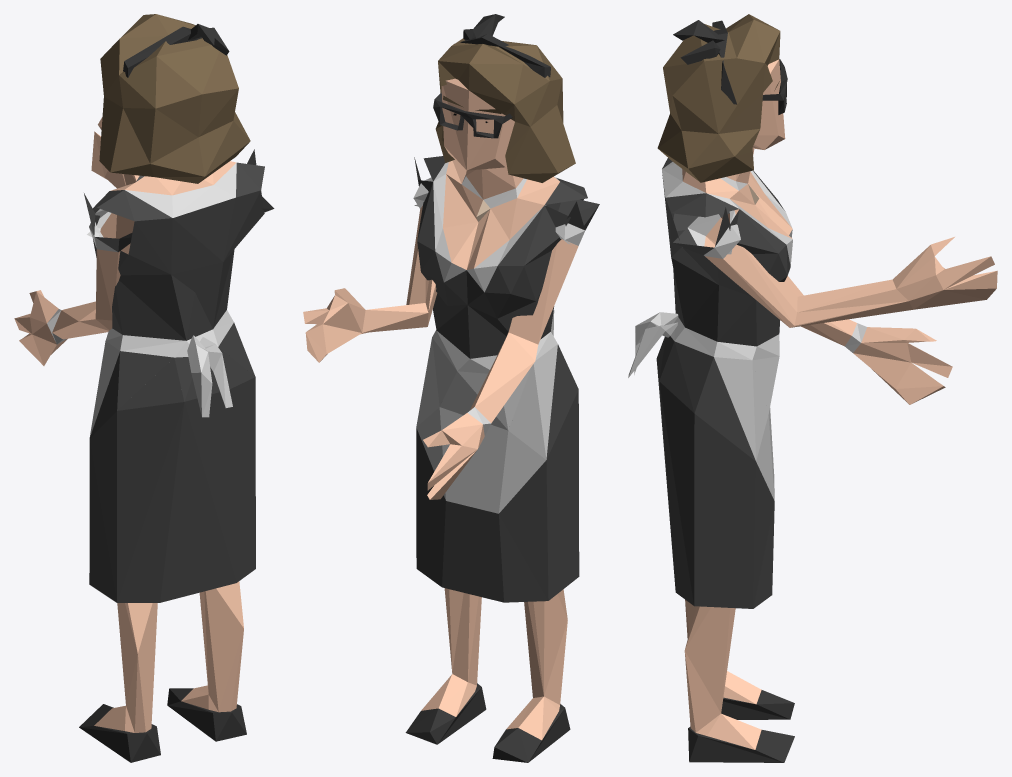
File: Bartender.obj
3 renders of one model, left to right at view 1: azimuth 30°, elevation 25°; view 2: azimuth 150°, elevation 25°; view 3: azimuth 270°, elevation 25°, orthographic. The views are drawn at different scales.
Visible parts, largest first — view 1: Bartender; view 2: Bartender; view 3: Bartender.
Part boxes in pixels (x1=…): Bartender: x1=14, y1=14, x2=274, y2=762; Bartender: x1=303, y1=14, x2=599, y2=762; Bartender: x1=628, y1=14, x2=997, y2=762.
Size of the model in its own units: 0.4579 by 1.86 by 0.8632.
1 material, 1 textured.
